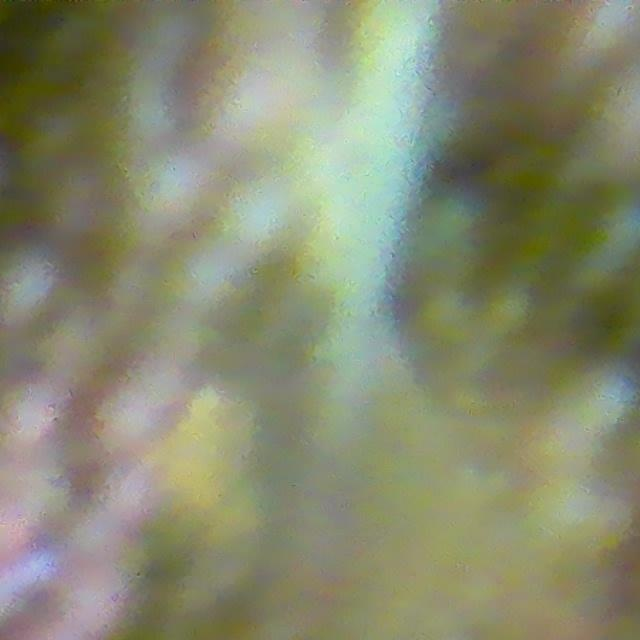SeaGrape: (221, 176, 302, 255)
